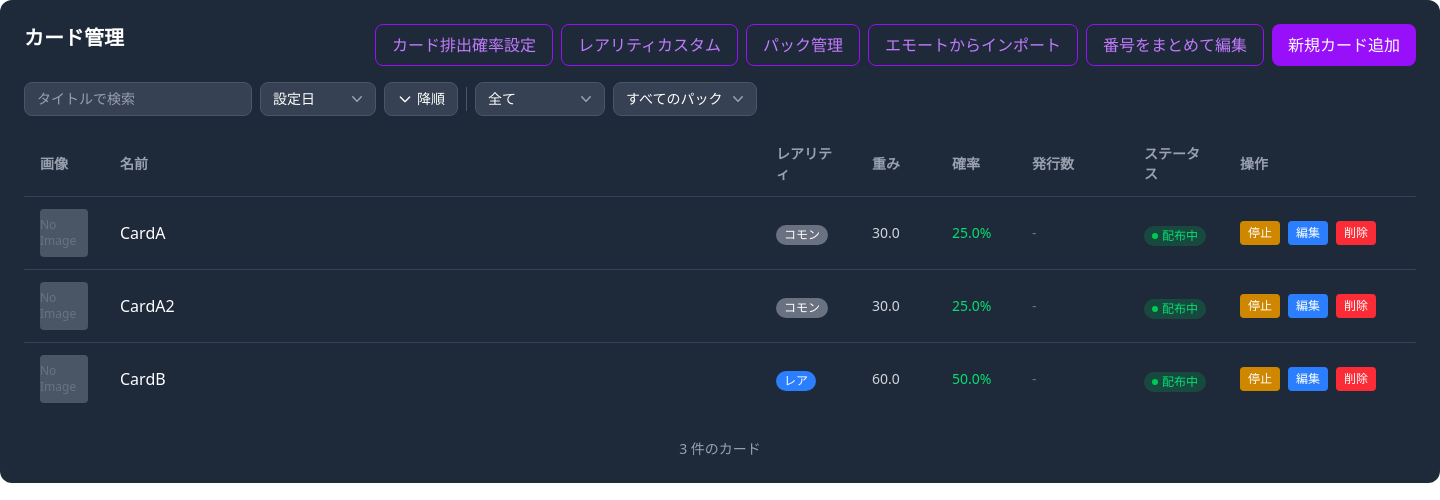
it: CardManager pack-scoped probability in auto mode (Issue #580) › keeps the simple drop_rate ratio unchanged for manual mode + pack filter
Select "weapons" in the dropdown named "カードパックで絞り込む": (685, 99) x1=613 y1=82 x2=757 y2=116
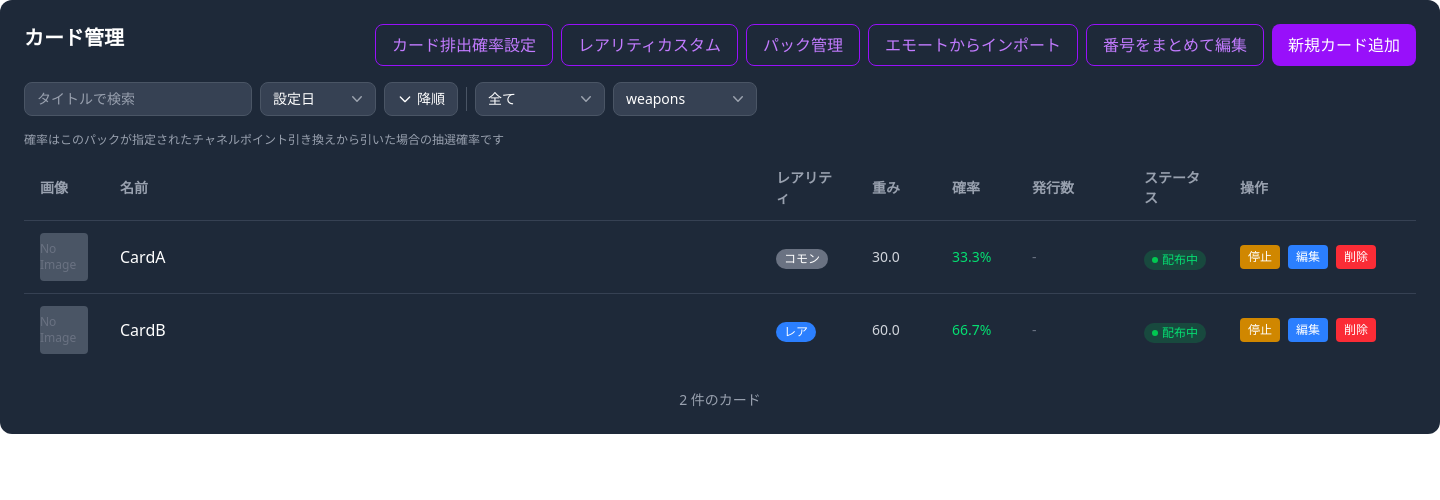
Expected: the text "33.3%" is shown, x1=936 y1=220 x2=1016 y2=294
Expected: the text "66.7%" is shown, x1=936 y1=294 x2=1016 y2=366
